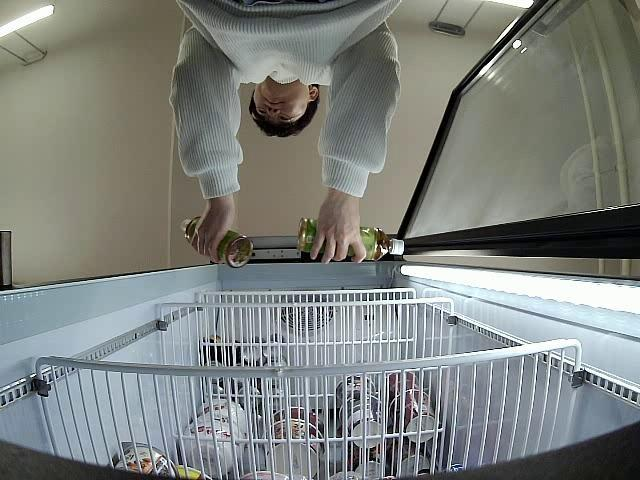19_17cha: (296, 217, 405, 262), (180, 216, 253, 267)
